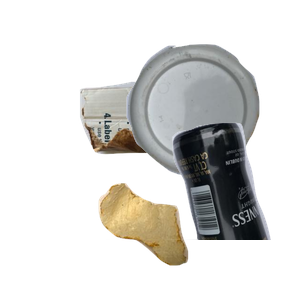cardboard: (77, 79, 251, 227)
glass: (106, 120, 300, 300)
plastic: (124, 42, 300, 210)
trash: (96, 181, 277, 300)
